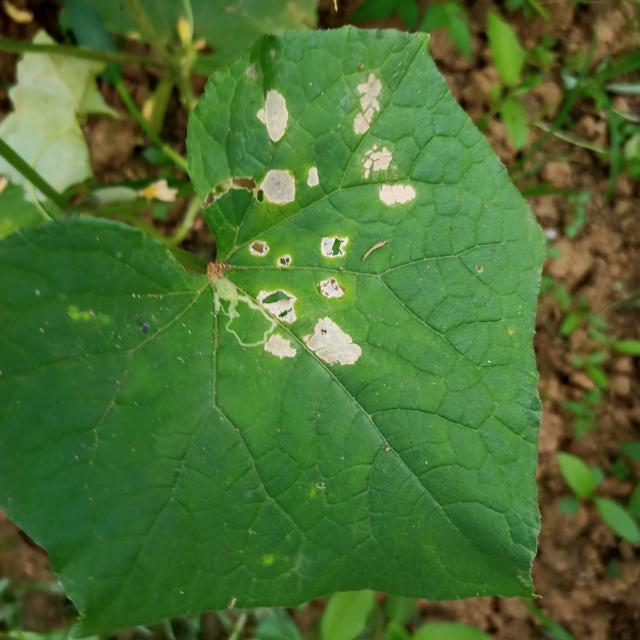disease_cucumber: (262, 236, 362, 366), (354, 74, 414, 208), (258, 90, 318, 206)
